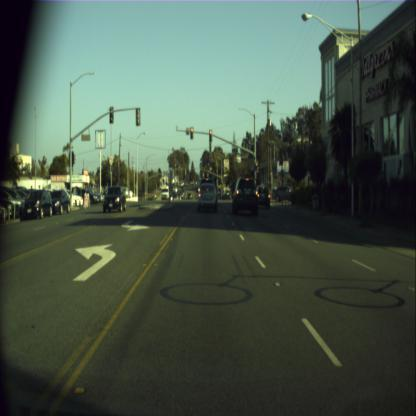Red: (190, 126, 193, 139), (209, 128, 212, 140), (254, 161, 257, 170)
